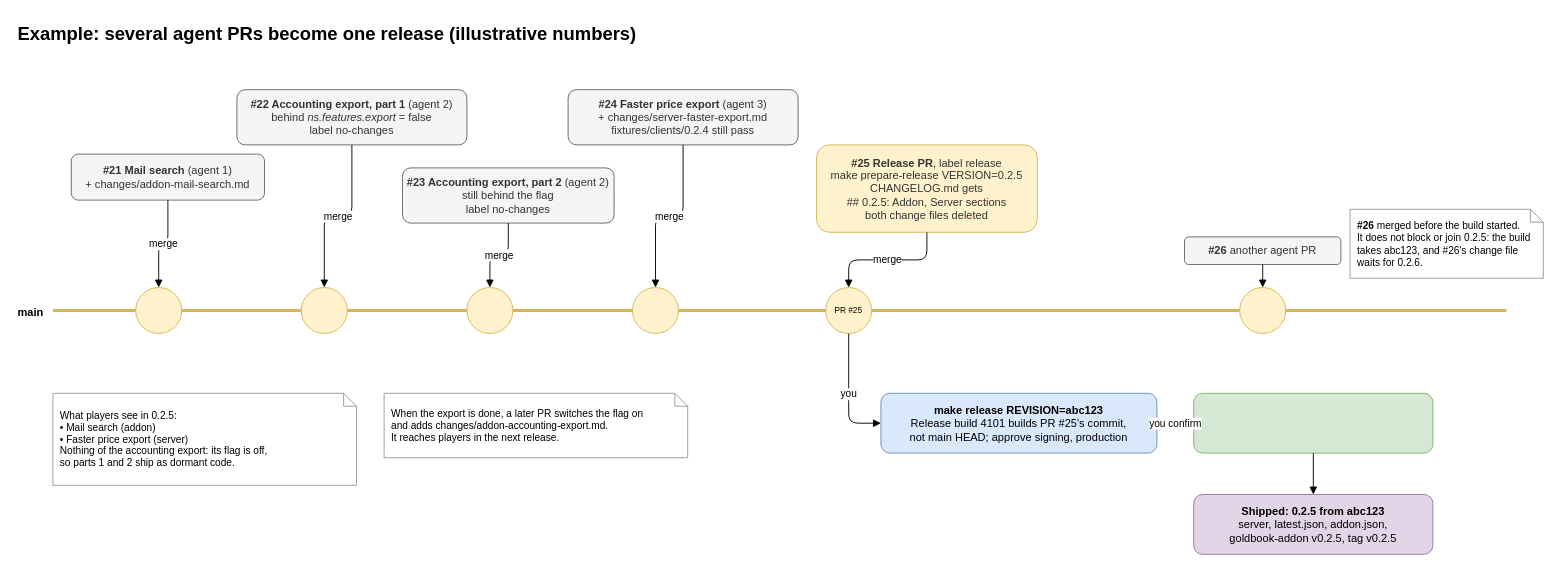
The diagram is 1559 pixels wide and 570 high, and some of its shapes have lost their labels. Each missing label, with the box of its shape:
PR #21: (135, 287, 182, 334)
PR #22: (300, 287, 347, 334)
PR #23: (466, 287, 513, 334)
PR #24: (632, 287, 678, 334)
PR #26: (1239, 287, 1286, 334)
Release promote build_run_id = 4101 server, feed, mirror, CurseForge, tag: (1193, 392, 1433, 453)
